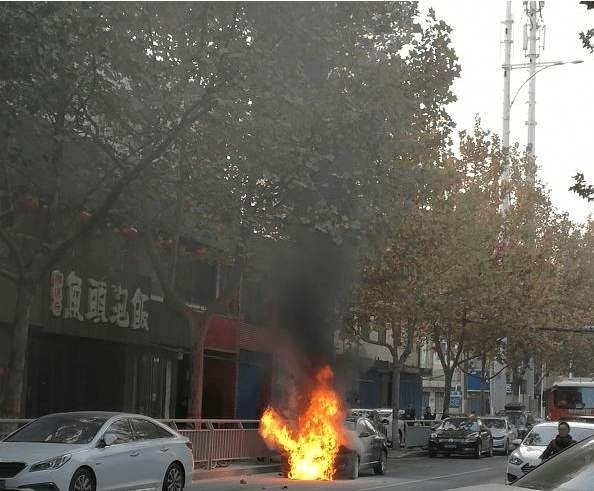fire: (258, 365, 347, 482)
